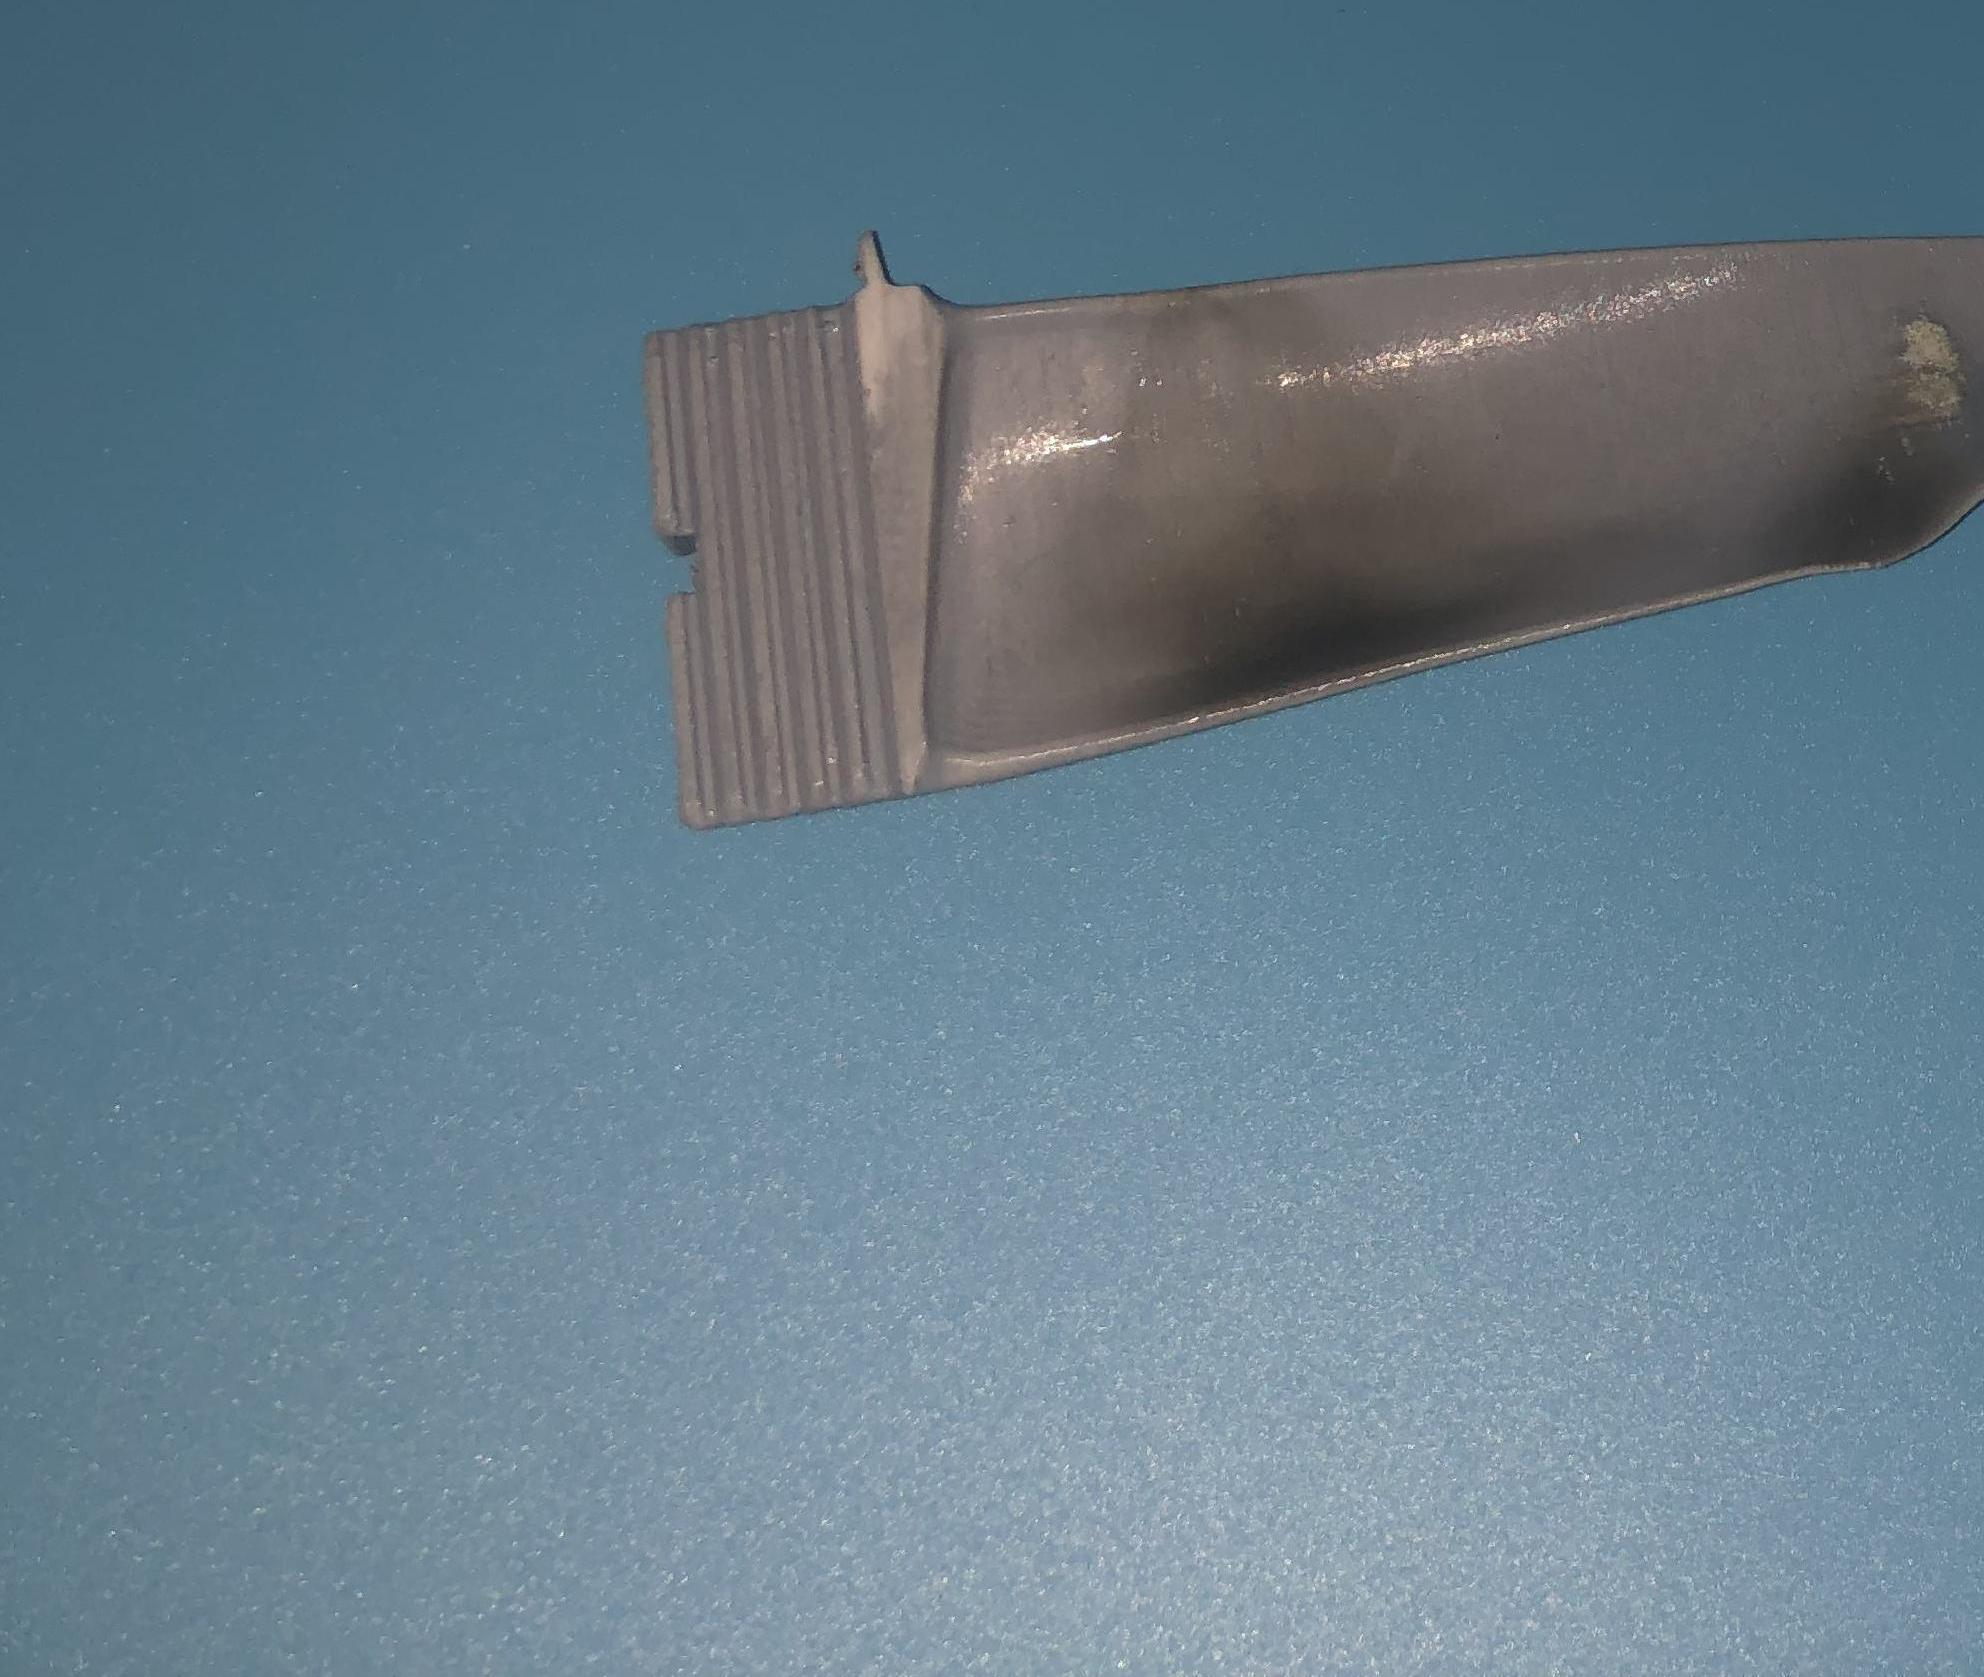ablation: (1201, 521, 1470, 675), (1848, 388, 1942, 547)
